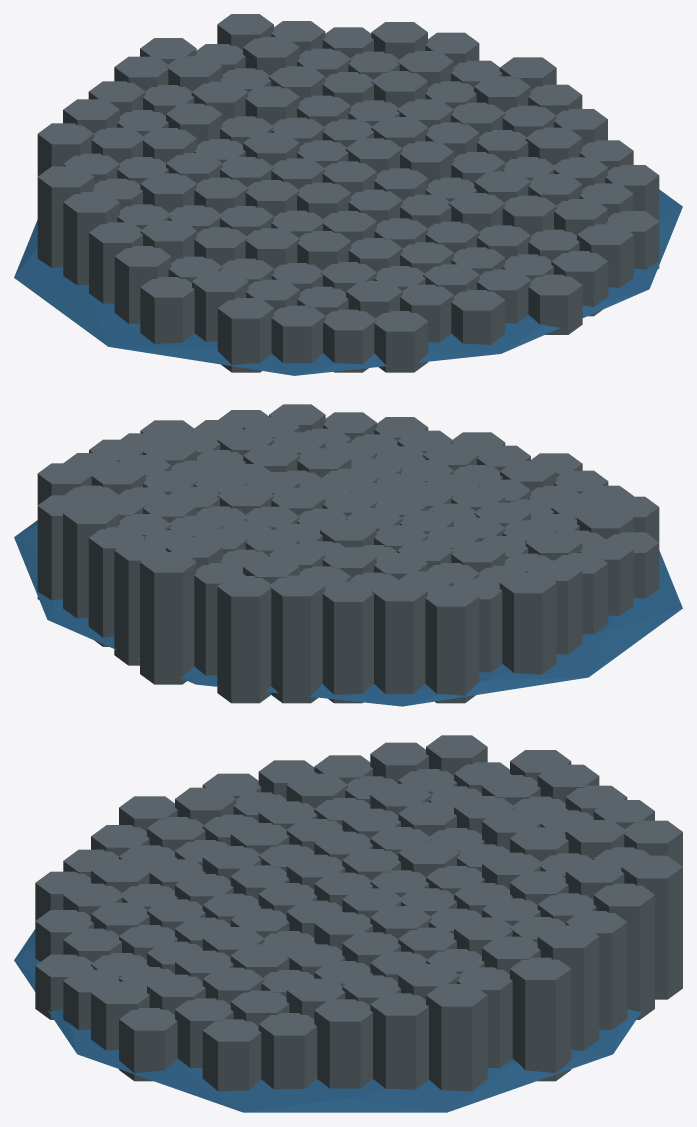
Rendered from FEATURE_GIANTS_CAUSEWAY.fbx.
The picture shows the model from 3 angles, top to bottom: view 1: azimuth 30°, elevation 25°; view 2: azimuth 150°, elevation 25°; view 3: azimuth 270°, elevation 25°; orthographic projection. The views are drawn at different scales.
Visible parts, largest first — view 1: Atlantic, Basalt_column.005, Basalt_column.004, Basalt_column, Basalt_column.003, Basalt_column.032, Basalt_column.001, Basalt_column.013, Basalt_column.076, Basalt_column.022, Basalt_column.054, Basalt_column.002 (+108 smaller); view 2: Atlantic, Basalt_column.075, Basalt_column.053, Basalt_column.042, Basalt_column.012, Basalt_column.031, Basalt_column.021, Basalt_column.004, Basalt_column.105, Basalt_column.086, Basalt_column.096, Basalt_column.064 (+97 smaller); view 3: Atlantic, Basalt_column.113, Basalt_column.118, Basalt_column.117, Basalt_column.075, Basalt_column.116, Basalt_column.105, Basalt_column.086, Basalt_column.115, Basalt_column.114, Basalt_column.096, Basalt_column.106 (+108 smaller).
Part boxes in pixels (x1,y1,x2,y2): Atlantic: (14, 189, 682, 375); Basalt_column.005: (217, 298, 274, 372); Basalt_column.004: (37, 166, 94, 267); Basalt_column: (140, 277, 194, 343); Basalt_column.003: (63, 192, 119, 285); Basalt_column.032: (374, 311, 428, 372); Basalt_column.001: (114, 246, 171, 323); Basalt_column.013: (271, 305, 325, 363); Basalt_column.076: (528, 274, 582, 334); Basalt_column.022: (323, 309, 376, 372); Basalt_column.054: (451, 290, 505, 344); Basalt_column.002: (89, 222, 142, 303); Atlantic: (14, 520, 682, 706); Basalt_column.075: (140, 552, 196, 684); Basalt_column.053: (217, 576, 271, 703); Basalt_column.042: (269, 575, 325, 703); Basalt_column.012: (425, 586, 479, 703); Basalt_column.031: (322, 581, 373, 703); Basalt_column.021: (371, 580, 427, 693); Basalt_column.004: (499, 572, 556, 674); Basalt_column.105: (63, 503, 119, 618); Basalt_column.086: (114, 540, 167, 665); Basalt_column.096: (88, 527, 145, 646); Basalt_column.064: (194, 563, 245, 675); Atlantic: (14, 929, 642, 1112); Basalt_column.113: (510, 957, 571, 1081); Basalt_column.118: (426, 984, 487, 1091); Basalt_column.117: (370, 993, 428, 1089); Basalt_column.075: (621, 855, 682, 999); Basalt_column.116: (314, 999, 372, 1088); Basalt_column.105: (537, 925, 599, 1050); Basalt_column.086: (593, 883, 654, 1019); Basalt_column.115: (258, 1013, 317, 1089); Basalt_column.114: (202, 1019, 261, 1091); Basalt_column.096: (565, 911, 627, 1030); Basalt_column.106: (119, 1008, 177, 1081).
Size of the model in its own units: 152 by 29.03 by 141.
